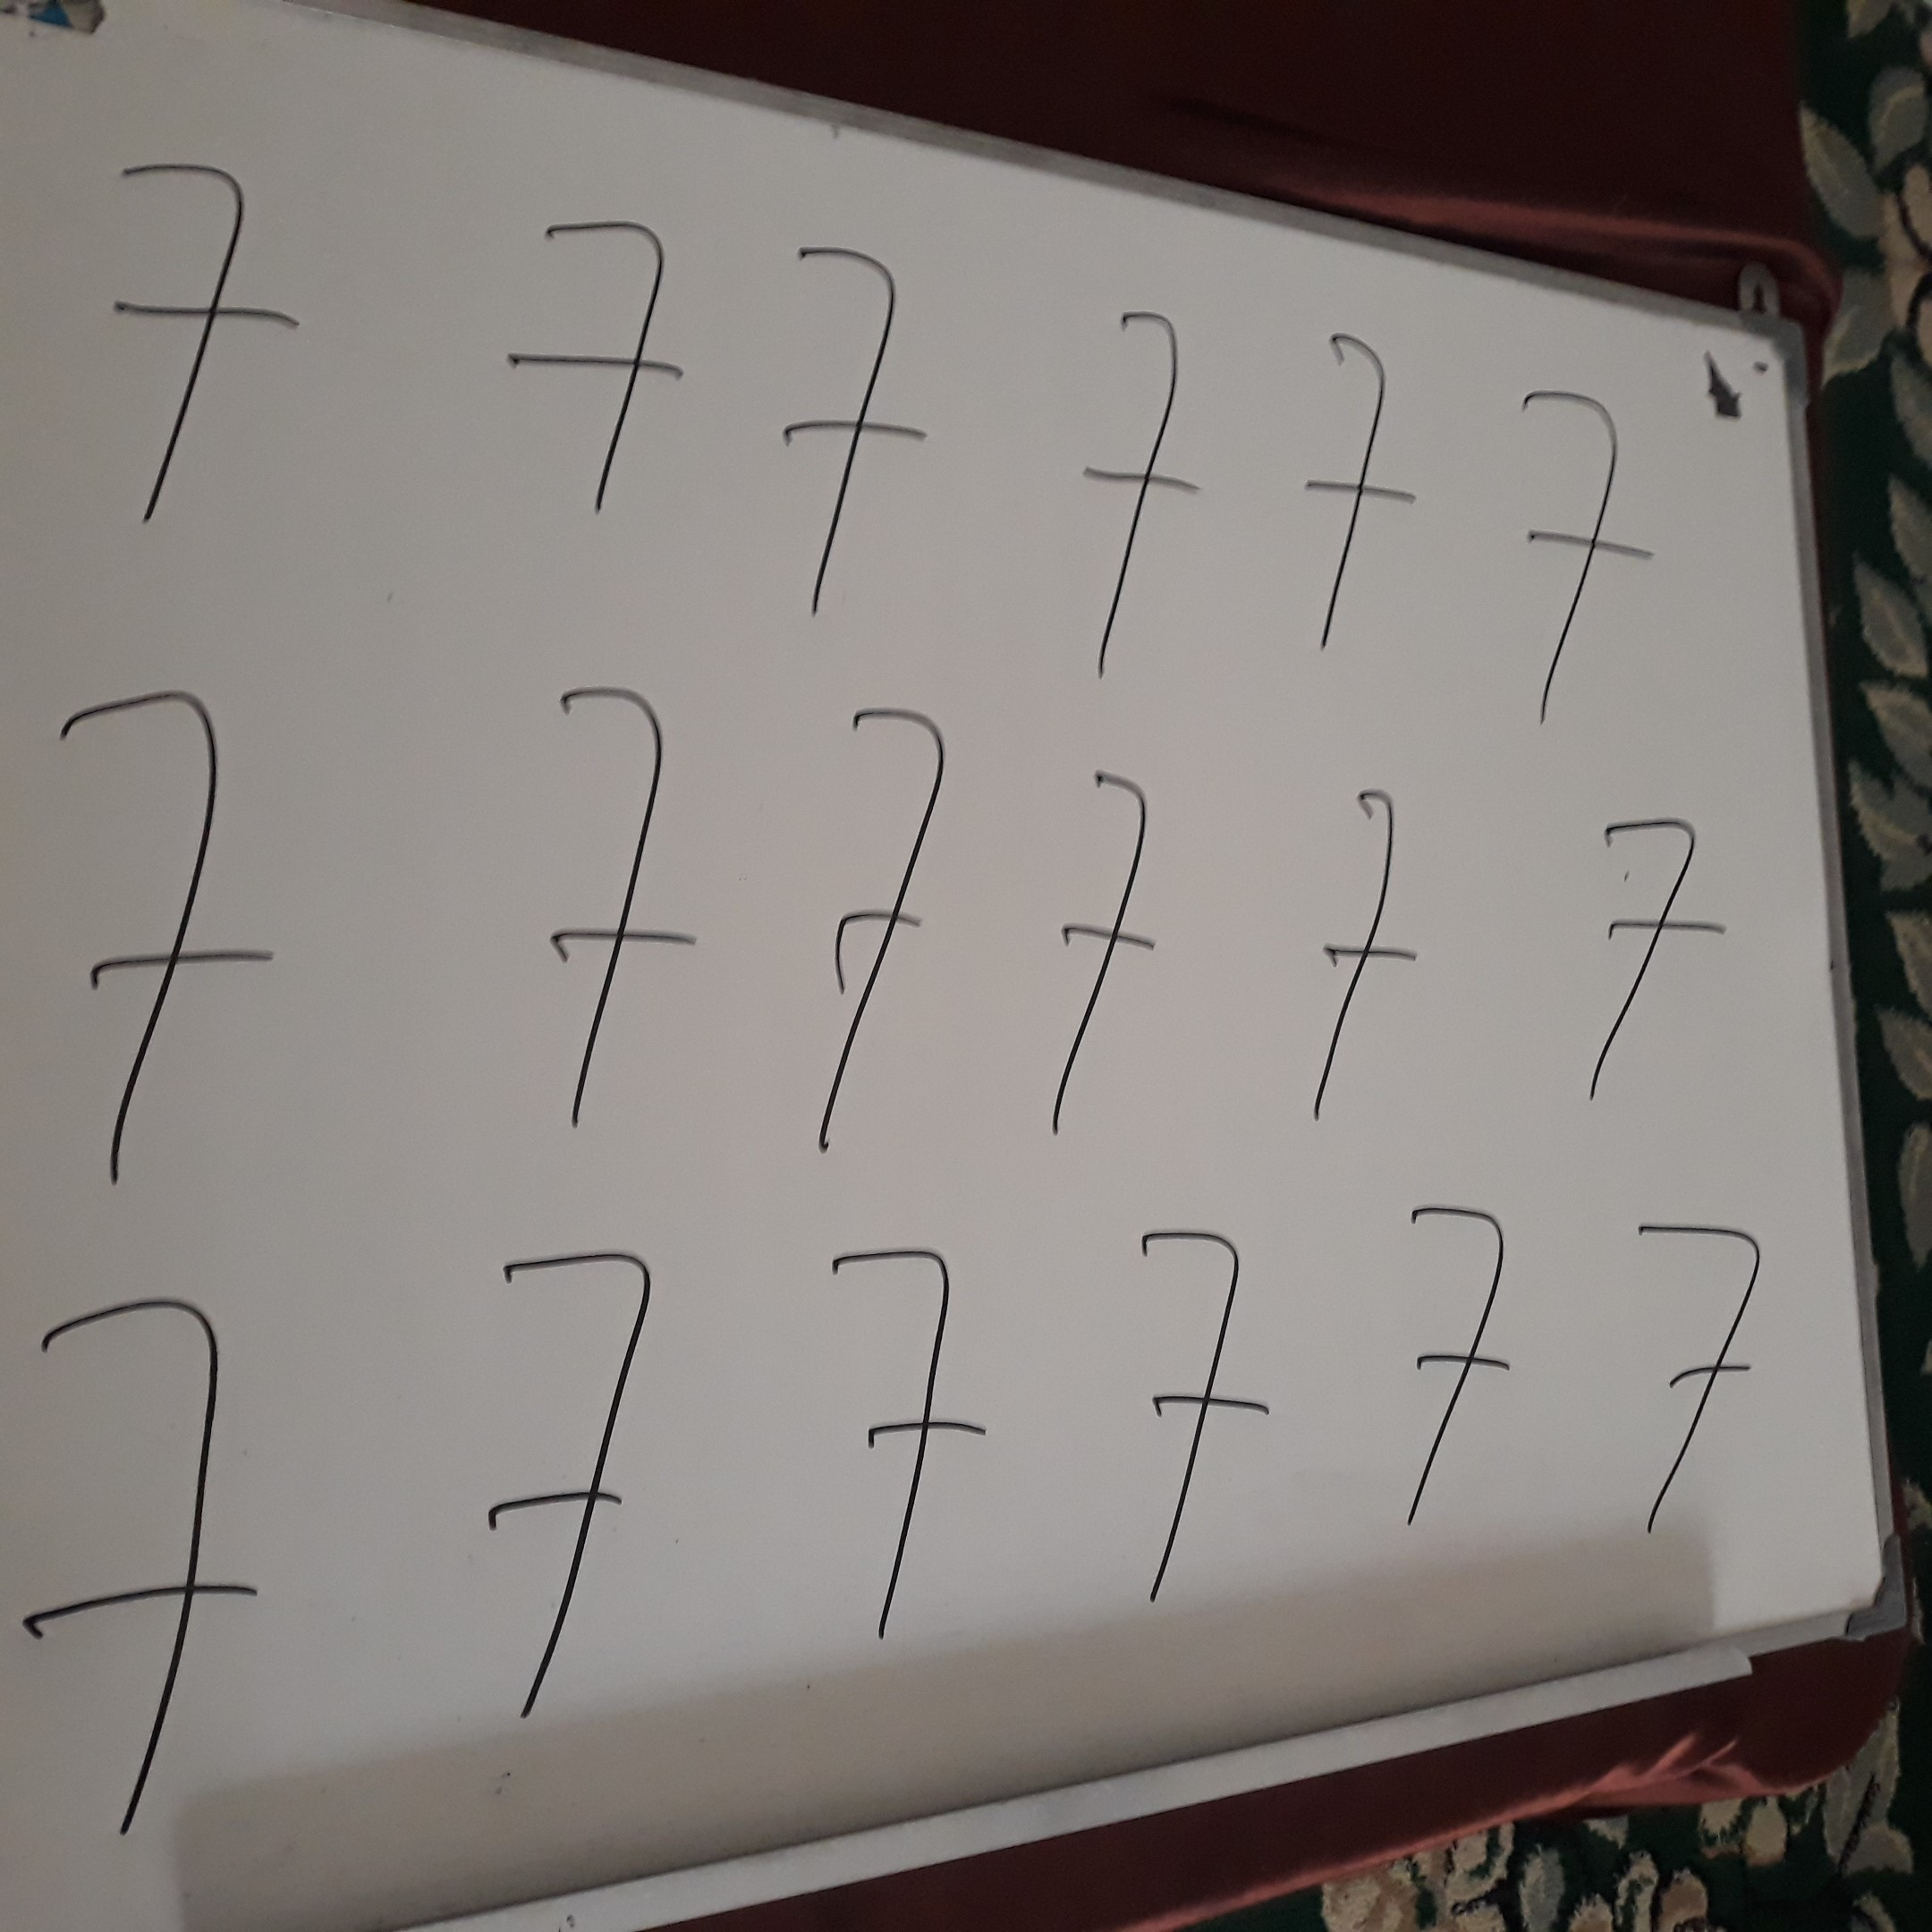num7: (13, 1281, 297, 1860), (424, 1234, 722, 1754), (21, 672, 295, 1216), (484, 658, 741, 1164), (776, 1233, 1022, 1673), (83, 133, 336, 555), (782, 691, 993, 1182), (1088, 1216, 1300, 1630), (1043, 292, 1233, 715), (1257, 768, 1454, 1147), (1594, 1197, 1798, 1561), (498, 197, 709, 538), (1022, 758, 1191, 1181), (1494, 369, 1678, 756), (776, 228, 944, 638), (1540, 802, 1741, 1119), (1367, 1188, 1537, 1553), (1291, 312, 1453, 679)
